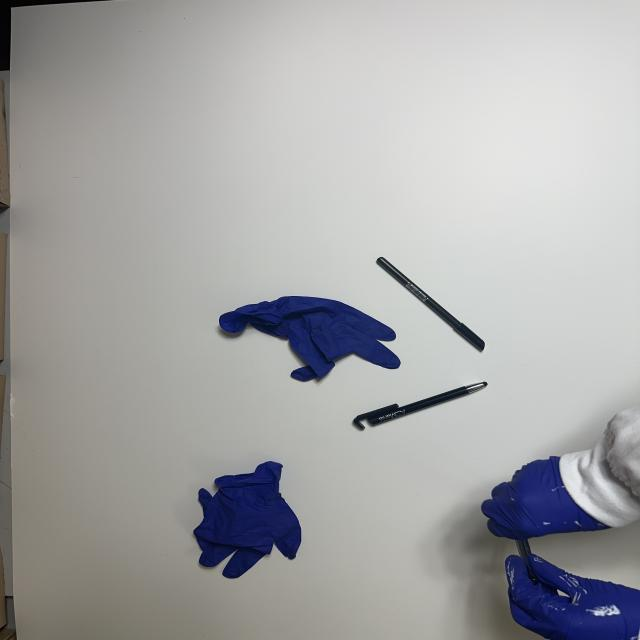gloves_contaminated: (505, 555, 640, 640), (481, 457, 609, 540)
